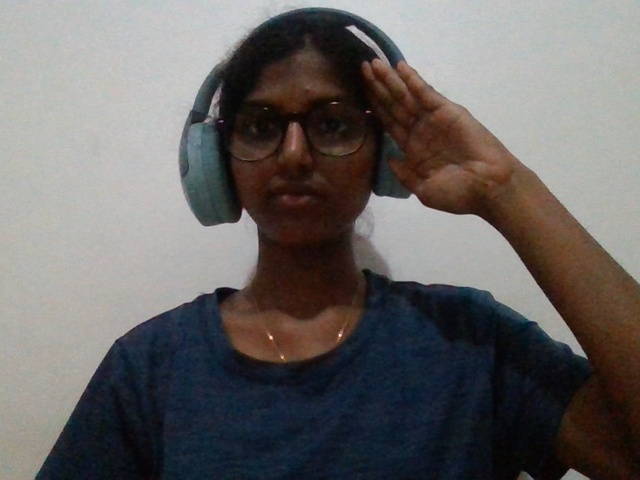Hello: (312, 29, 621, 317)
